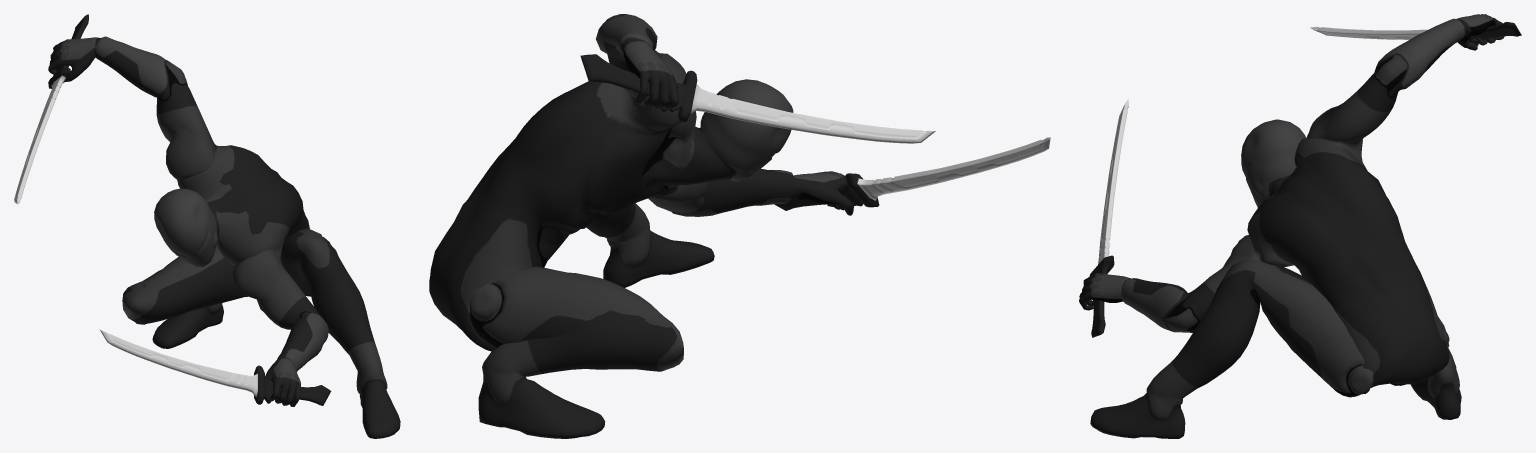
3 renders of one model, left to right at view 1: azimuth 30°, elevation 25°; view 2: azimuth 150°, elevation 25°; view 3: azimuth 270°, elevation 25°, orthographic. The views are drawn at different scales.
Parts seen in each view (by area): view 1: Cyborg_Ninja_Killer, Sword_l, Sword_l001; view 2: Cyborg_Ninja_Killer, Sword_l001, Sword_l; view 3: Cyborg_Ninja_Killer, Sword_l, Sword_l001.
Boxes of the visible parts, <box> form: Cyborg_Ninja_Killer: <box>48,36,400,438</box>; Sword_l: <box>99,329,331,405</box>; Sword_l001: <box>14,14,88,204</box>; Cyborg_Ninja_Killer: <box>429,14,855,438</box>; Sword_l001: <box>580,54,935,143</box>; Sword_l: <box>774,137,1050,210</box>; Cyborg_Ninja_Killer: <box>1079,14,1504,438</box>; Sword_l: <box>1089,98,1128,337</box>; Sword_l001: <box>1310,22,1521,45</box>.
Bounding box in the file's own units: 122 × 108 × 127.
Materials: 2 (2 with a texture image).
